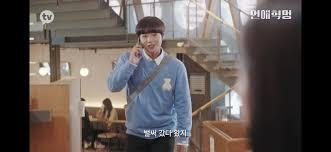sweater: (109, 46, 196, 143)
